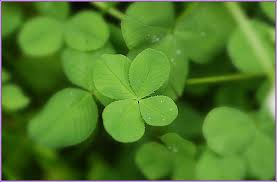4-clover: (95, 50, 178, 145)
